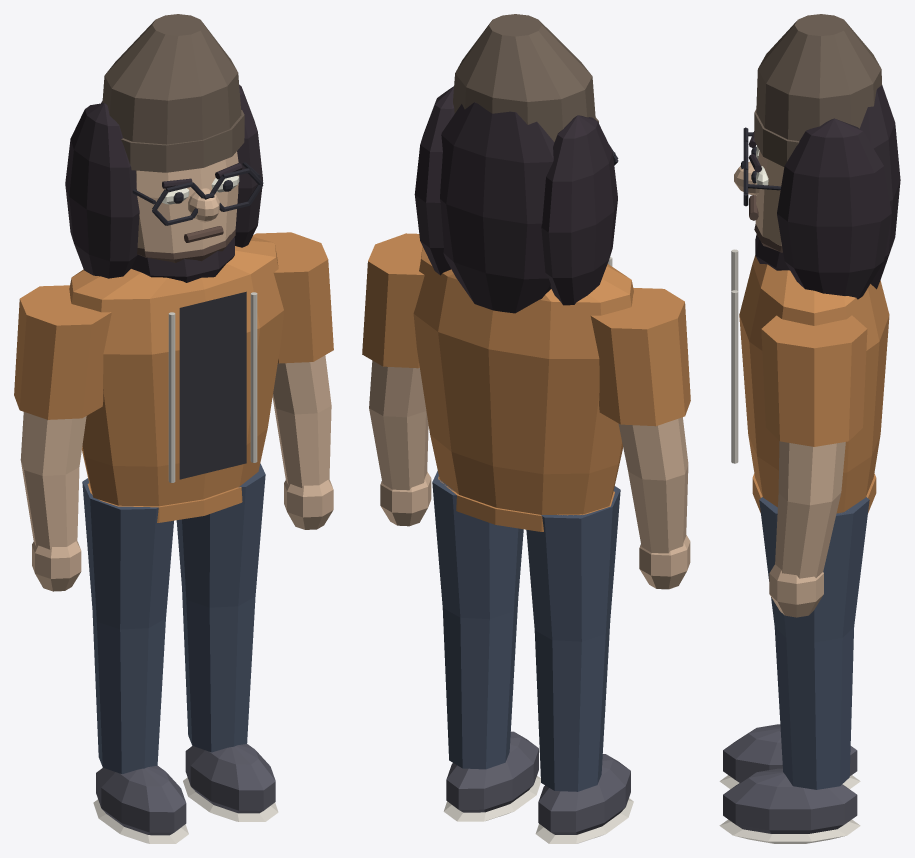
Rendered from jean.glb.
3 renders of one model, left to right at view 1: azimuth 30°, elevation 25°; view 2: azimuth 150°, elevation 25°; view 3: azimuth 270°, elevation 25°, orthographic. The views are drawn at different scales.
Parts seen in each view (by area): view 1: Torso, Leg, Leg.001, Beanie, JacketOpening, Sleeve, LongSideHair, Arm, Sleeve.001, Arm.001, Face, Shoe (+13 smaller); view 2: Torso, Leg, BackHair, Leg.001, Beanie, LongSideHair, Sleeve, Arm, Sleeve.001, Arm.001, Shoe.001, Shoe (+6 smaller); view 3: Leg.001, LongSideHair.001, Torso, Sleeve.001, Beanie, Arm.001, Shoe.001, BackHair, Shoe, Hand.001, Face, Sole.001 (+5 smaller).
Part boxes in pixels (x1=…): Torso: x1=69, y1=236, x2=283, y2=506; Leg: x1=82, y1=478, x2=173, y2=773; Leg.001: x1=176, y1=463, x2=265, y2=752; Beanie: x1=102, y1=14, x2=241, y2=144; JacketOpening: x1=179, y1=291, x2=246, y2=479; Sleeve: x1=14, y1=285, x2=111, y2=419; LongSideHair: x1=65, y1=103, x2=139, y2=278; Arm: x1=20, y1=412, x2=86, y2=549; Sleeve.001: x1=252, y1=232, x2=333, y2=363; Arm.001: x1=272, y1=355, x2=331, y2=487; Face: x1=136, y1=151, x2=239, y2=253; Shoe: x1=96, y1=765, x2=186, y2=835; Torso: x1=413, y1=247, x2=633, y2=514; Leg: x1=526, y1=486, x2=620, y2=791; BackHair: x1=440, y1=102, x2=554, y2=313; Leg.001: x1=432, y1=471, x2=523, y2=769; Beanie: x1=453, y1=14, x2=595, y2=141; LongSideHair: x1=541, y1=115, x2=617, y2=305; Sleeve: x1=590, y1=288, x2=690, y2=426; Arm: x1=618, y1=417, x2=688, y2=553; Sleeve.001: x1=362, y1=233, x2=424, y2=368; Arm.001: x1=369, y1=360, x2=428, y2=490; Shoe.001: x1=446, y1=731, x2=538, y2=812; Shoe: x1=538, y1=754, x2=630, y2=834; Leg.001: x1=759, y1=497, x2=869, y2=789; LongSideHair.001: x1=777, y1=118, x2=891, y2=299; Torso: x1=739, y1=255, x2=889, y2=513; Sleeve.001: x1=761, y1=315, x2=867, y2=446; Beanie: x1=756, y1=14, x2=881, y2=140; Arm.001: x1=775, y1=441, x2=845, y2=578; Shoe.001: x1=723, y1=768, x2=857, y2=833; BackHair: x1=860, y1=85, x2=900, y2=289; Shoe: x1=723, y1=724, x2=857, y2=782; Hand.001: x1=769, y1=564, x2=823, y2=617; Face: x1=755, y1=151, x2=784, y2=245; Sole.001: x1=719, y1=819, x2=860, y2=843.
Bounding box in the file's own units: 0.8611 × 2.09 × 0.4305.
